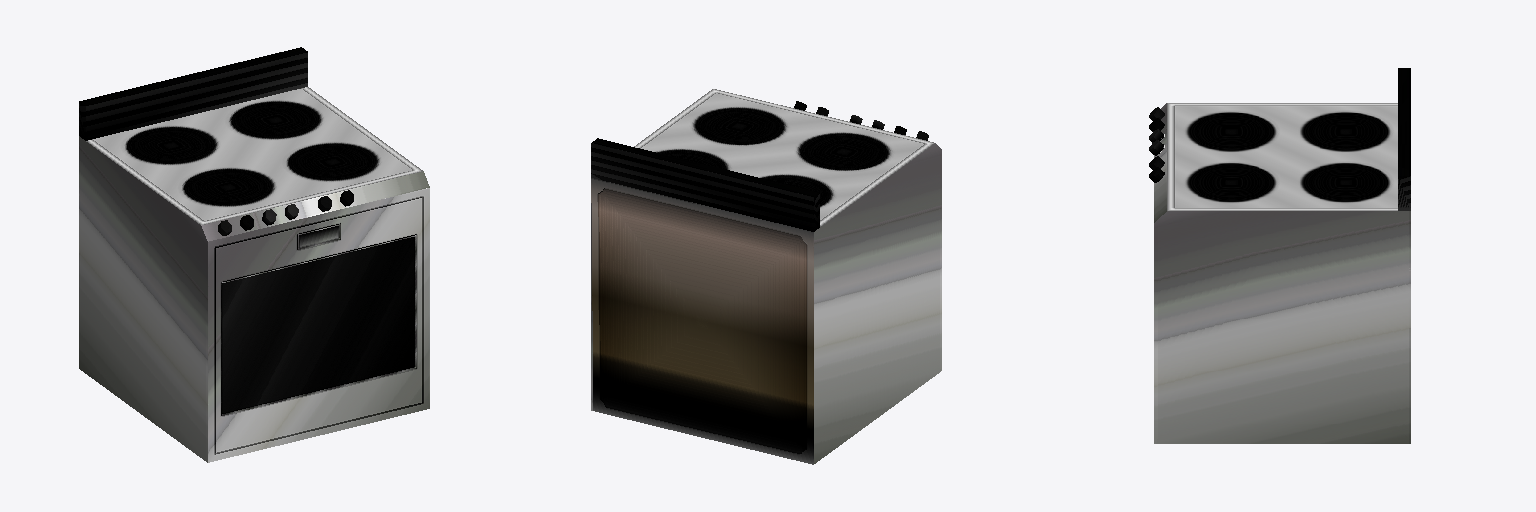
The picture shows the model from 3 angles: view 1: azimuth 30°, elevation 25°; view 2: azimuth 150°, elevation 25°; view 3: azimuth 270°, elevation 25°; orthographic projection.
Bounding box in the file's own units: 2 × 2.3 × 2.04.
Materials: 1 (1 with a texture image).